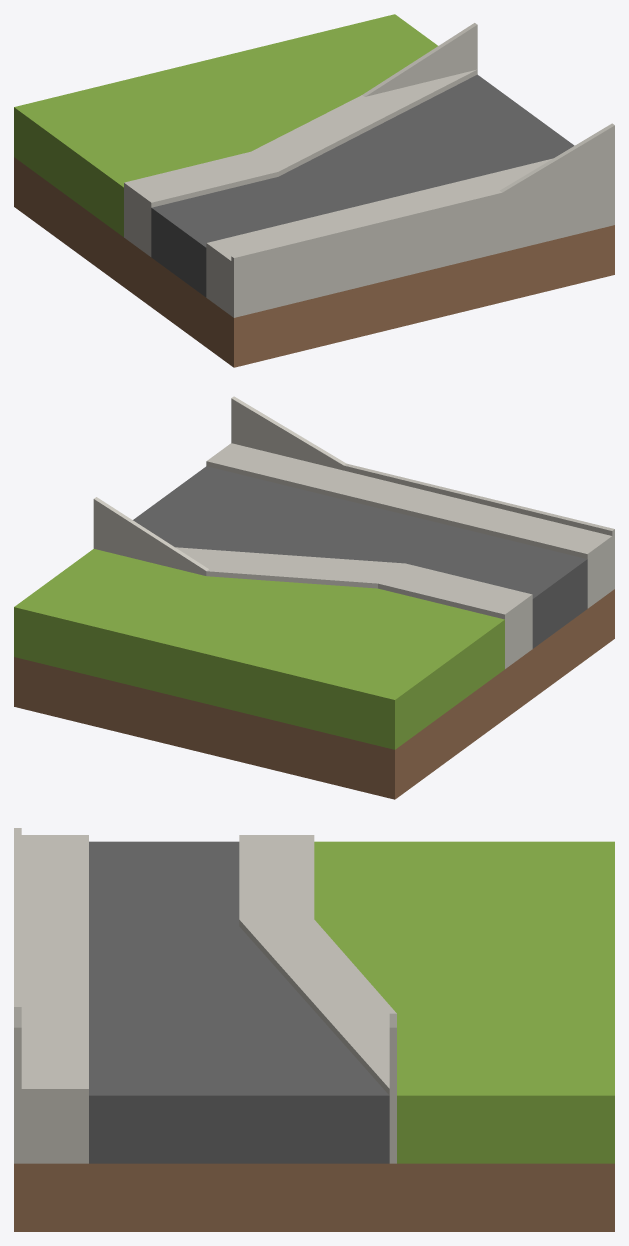
Rendered from track-pit-exitlane-small.obj.
3 views of the same model, one above another, from view 1: azimuth 30°, elevation 25°; view 2: azimuth 150°, elevation 25°; view 3: azimuth 270°, elevation 25° (orthographic). The views are drawn at different scales.
Visible parts, largest first — view 1: track-pit-exitlane-small_Cube.004; view 2: track-pit-exitlane-small_Cube.004; view 3: track-pit-exitlane-small_Cube.004.
Boxes of the visible parts, bbox=[...] form: track-pit-exitlane-small_Cube.004: bbox=[14, 14, 614, 367]; track-pit-exitlane-small_Cube.004: bbox=[14, 396, 614, 799]; track-pit-exitlane-small_Cube.004: bbox=[14, 828, 614, 1231].
Size of the model in its own units: 8 by 3 by 8.
Materials: 1 (1 with a texture image).
